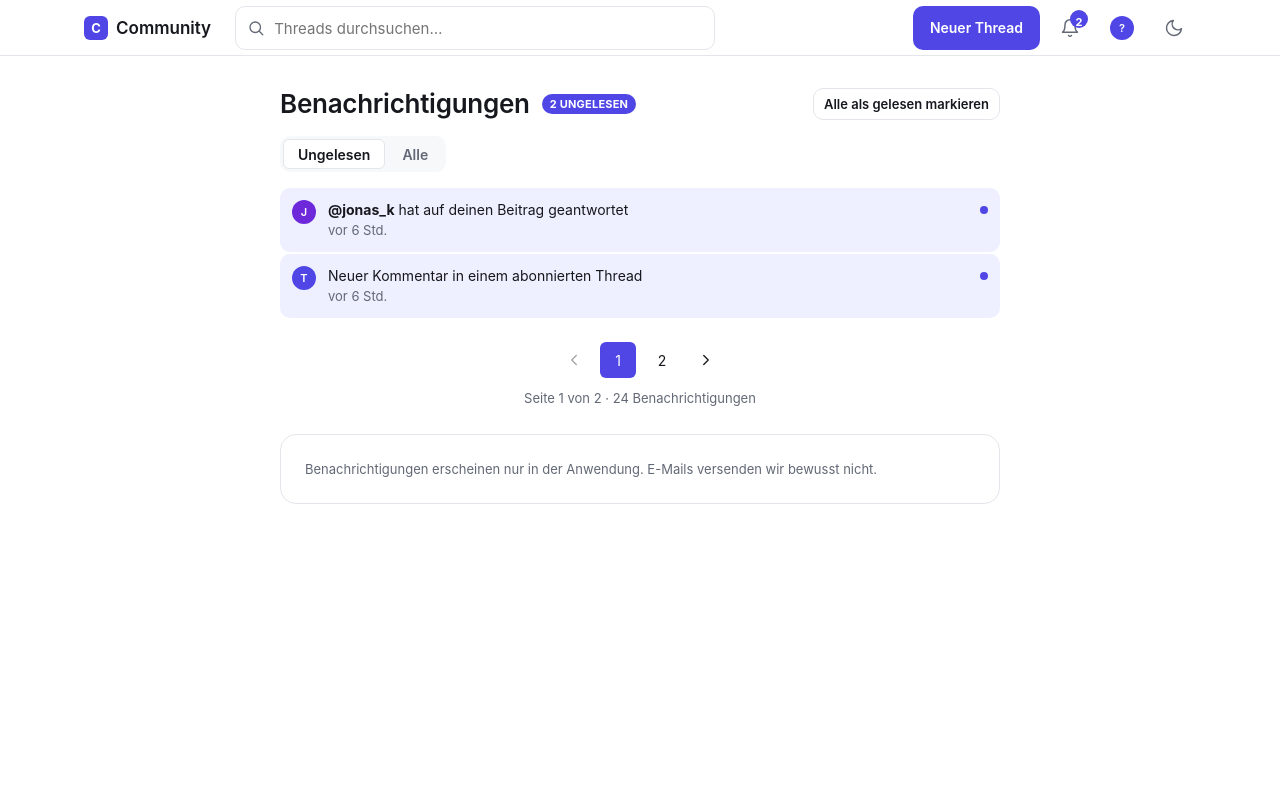
forum notifications screen › filters between unread and all and pages through the list
The width and height of the screenshot is (1280, 800).
Expected: the link "jonas_k" is shown, top-left (280, 188), bottom-right (1000, 252)
Click the tab "Alle". click: (415, 154)
box: top-left (387, 139), bottom-right (443, 169)
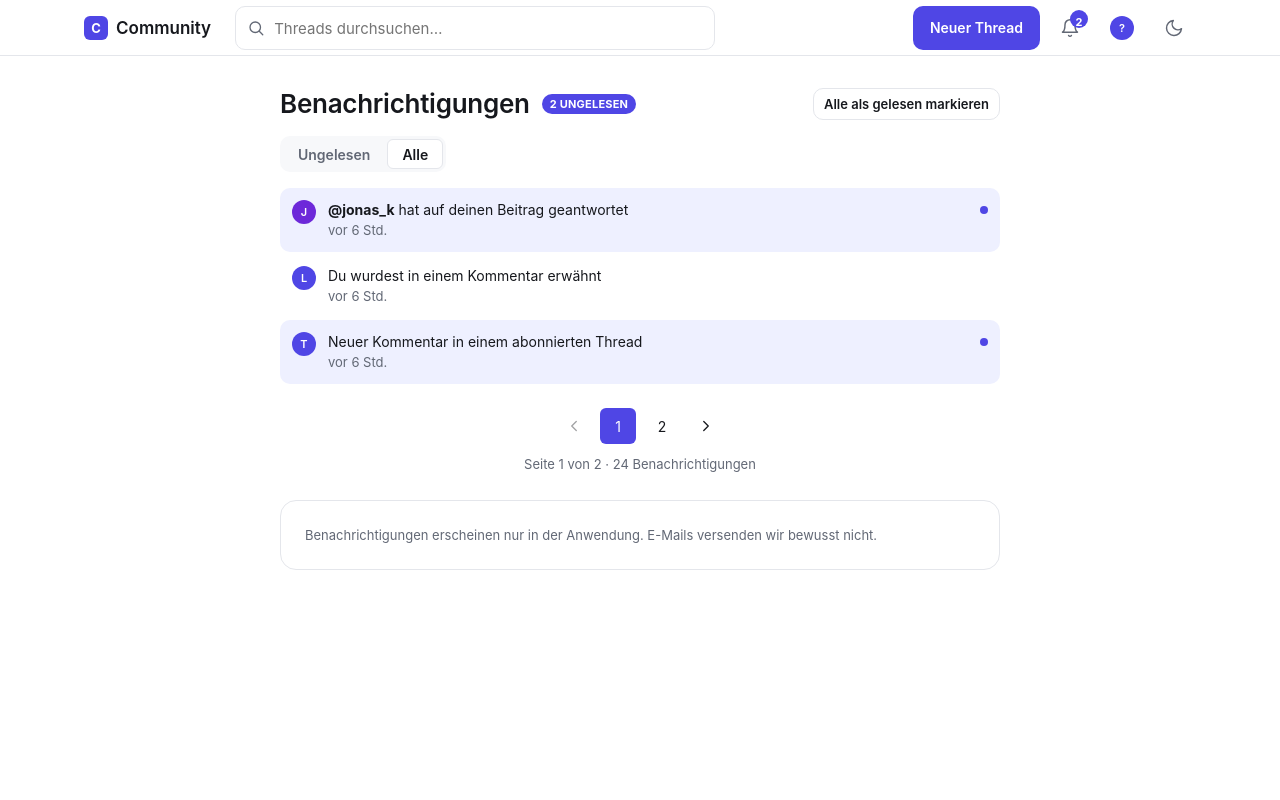
Now the text "Du wurdest in einem Kommentar erwähnt" is shown, box top-left (328, 267), bottom-right (602, 284)
Click the button named "Weiter". click: (706, 426)
box: top-left (688, 408), bottom-right (724, 444)
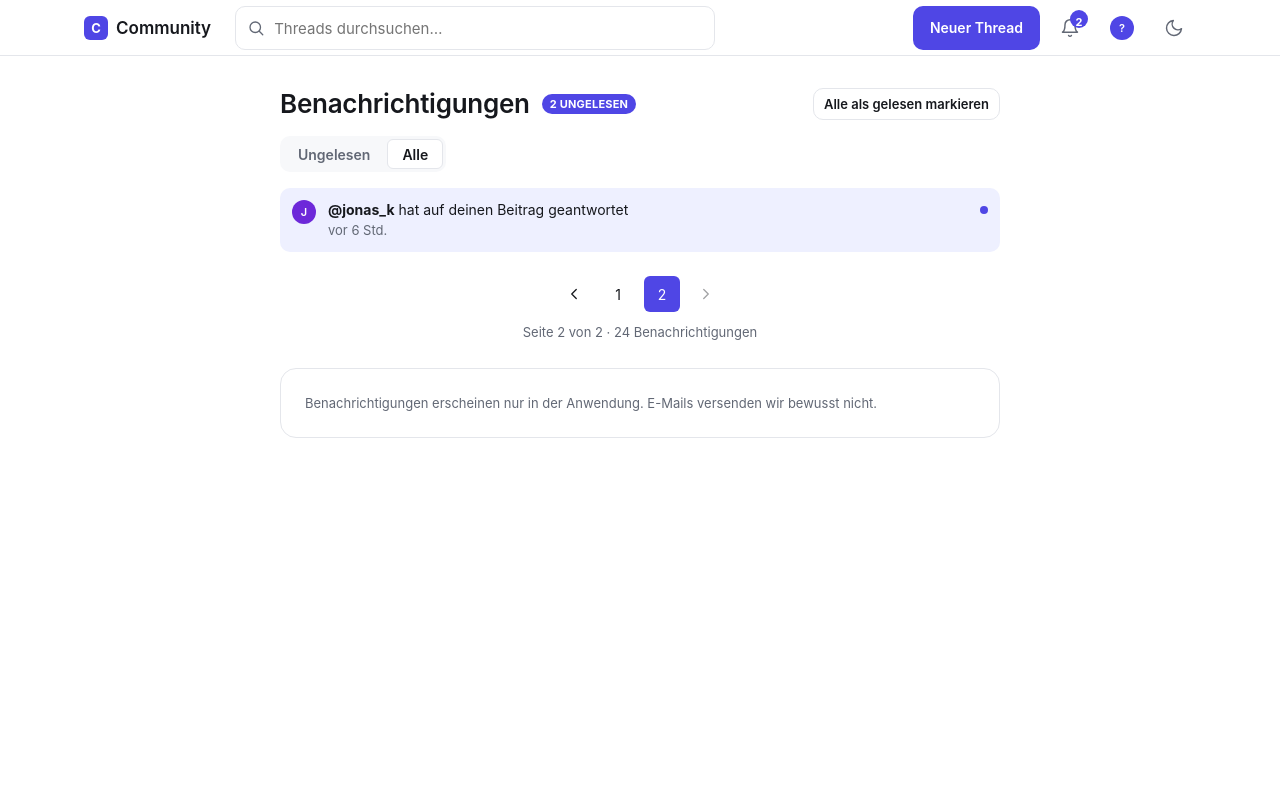
Now the text "Seite 2 von 2 · 24 Benachrichtigungen" is shown, box top-left (523, 320), bottom-right (757, 344)
